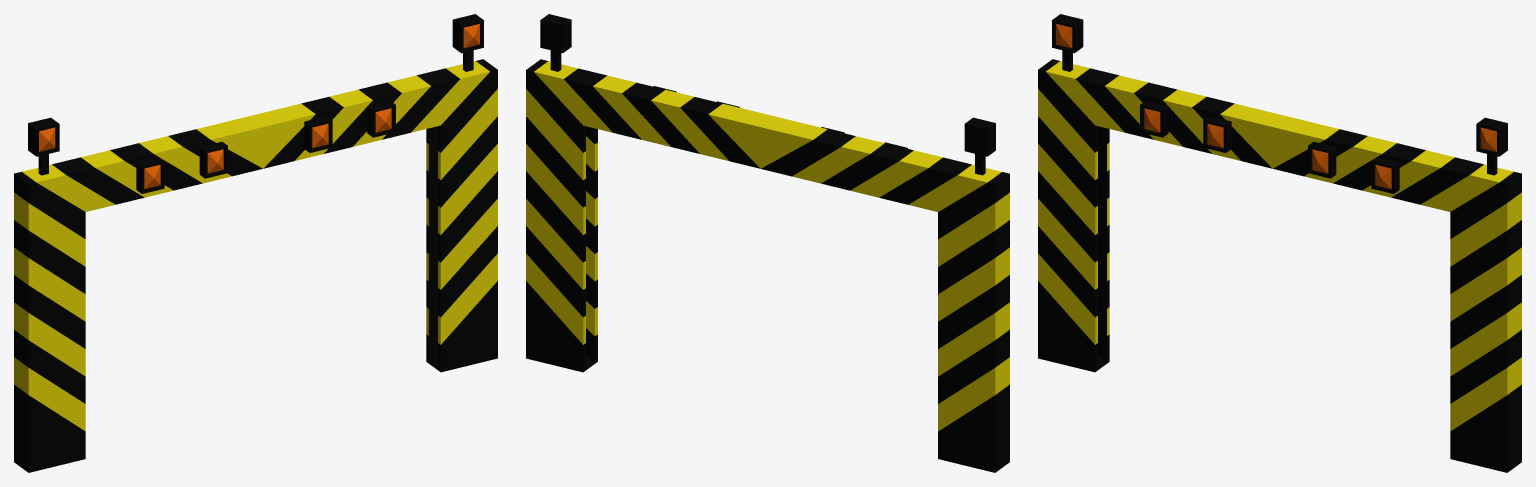
File: Batente.fbx
3 views of the same model, side by side, from view 1: azimuth 30°, elevation 25°; view 2: azimuth 150°, elevation 25°; view 3: azimuth 330°, elevation 25° (orthographic).
Visible parts, largest first — view 1: Cube; view 2: Cube; view 3: Cube.
Boxes of the visible parts, bbox=[...] form: Cube: bbox=[14, 14, 497, 472]; Cube: bbox=[526, 14, 1009, 472]; Cube: bbox=[1038, 14, 1521, 472].
Size of the model in its own units: 4432 by 3057 by 353.
